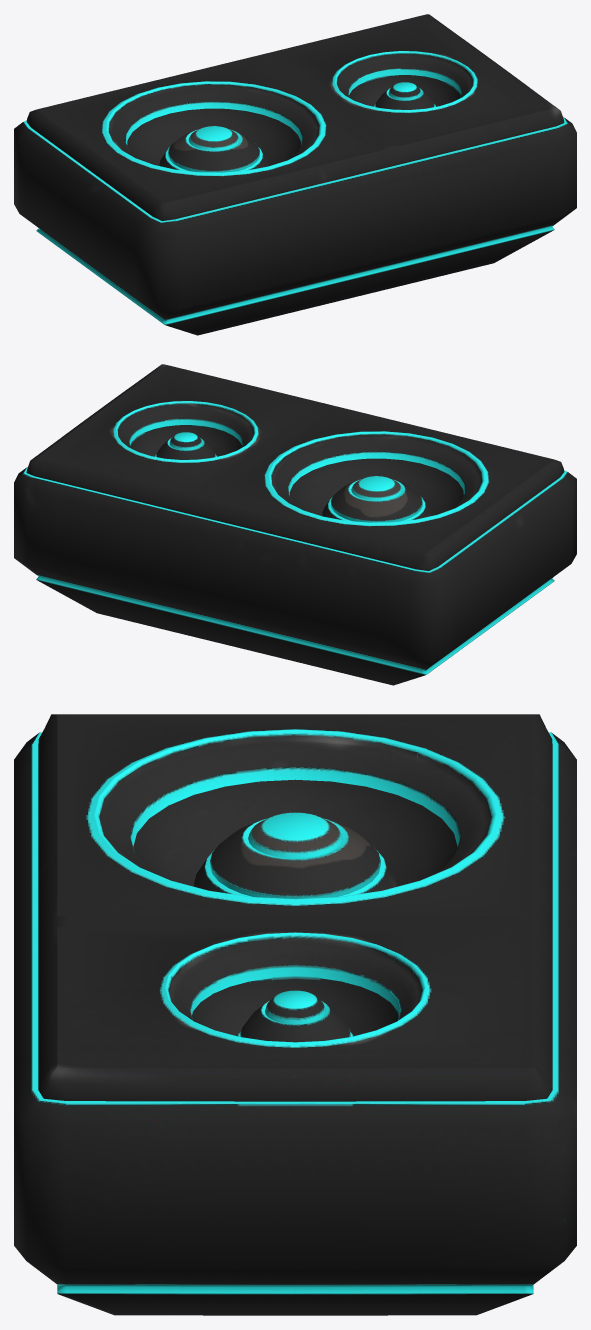
Rendered from Speaker.gltf.
3 views of the same model, one above another, from view 1: azimuth 30°, elevation 25°; view 2: azimuth 150°, elevation 25°; view 3: azimuth 270°, elevation 25° (orthographic). The views are drawn at different scales.
Visible parts, largest first — view 1: Sphere001; view 2: Sphere001; view 3: Sphere001.
Part boxes in pixels (x1,y1,x2,y2): Sphere001: [14, 14, 576, 335]; Sphere001: [14, 364, 576, 685]; Sphere001: [14, 714, 576, 1315].
Bounding box in the file's own units: 2 × 0.6955 × 1.22.
